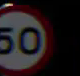Speed limit: (0, 4, 54, 74)
